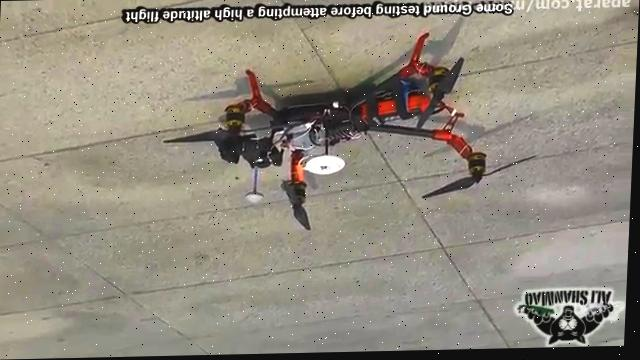drone: (157, 30, 545, 238)
